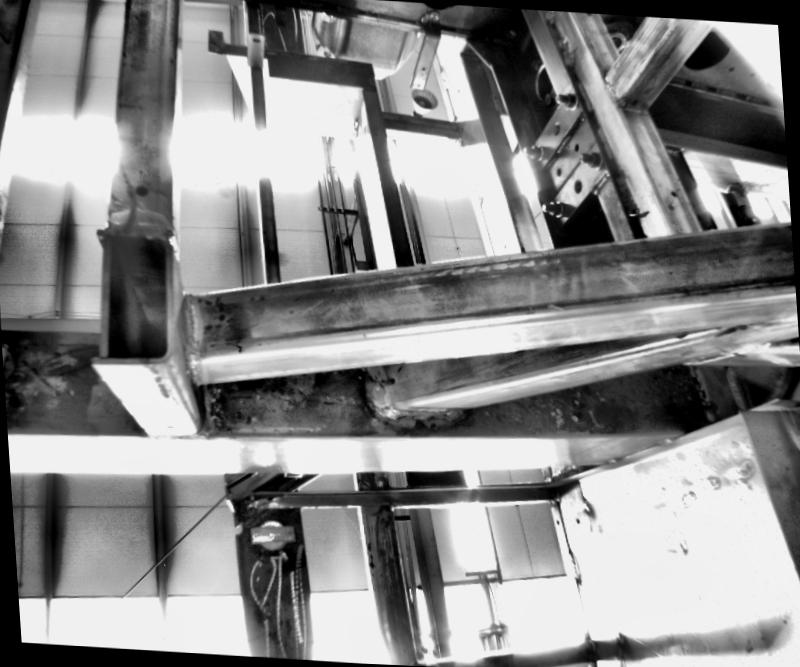bolt: (552, 88, 578, 110), (580, 150, 606, 167), (538, 198, 562, 216), (519, 144, 542, 159)
bracket: (516, 80, 621, 232), (406, 7, 444, 94), (244, 20, 264, 70)
hole: (132, 182, 151, 200), (572, 178, 584, 194), (549, 122, 562, 136), (382, 375, 397, 387), (162, 422, 174, 430), (572, 142, 579, 153), (554, 164, 560, 176), (669, 190, 676, 198), (630, 99, 640, 104), (251, 37, 259, 43), (419, 66, 426, 72), (574, 517, 580, 523), (554, 518, 558, 523), (415, 83, 420, 86), (502, 244, 505, 247), (457, 87, 458, 90)
welding: (371, 403, 460, 421), (367, 363, 393, 416), (182, 295, 202, 360), (565, 550, 579, 582), (615, 102, 646, 116), (436, 70, 448, 90), (418, 12, 439, 22)
